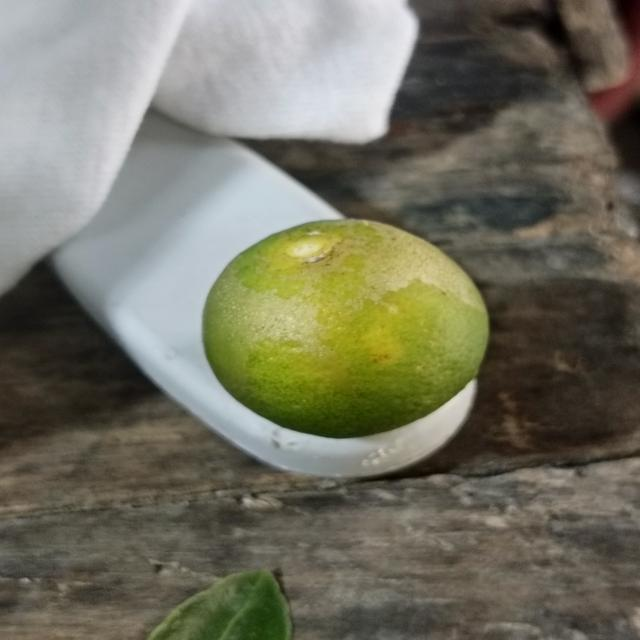thrips: (194, 210, 493, 442)
